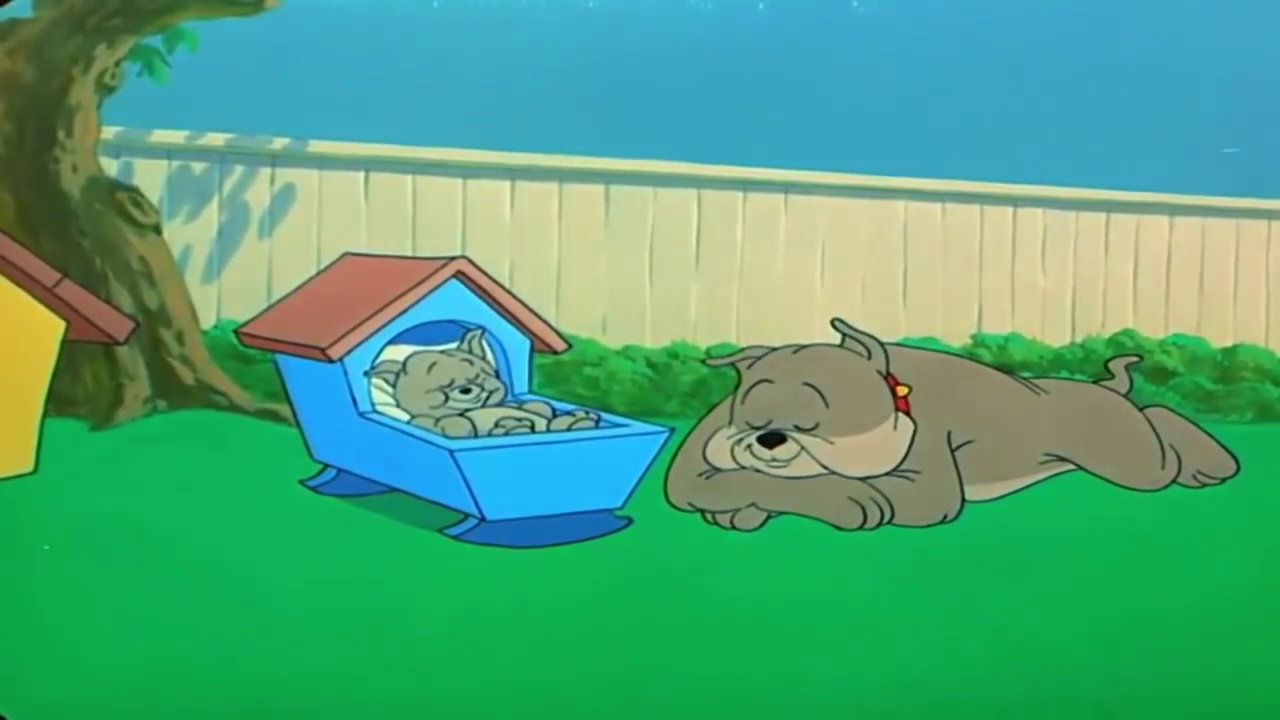spike: (698, 316, 918, 480)
